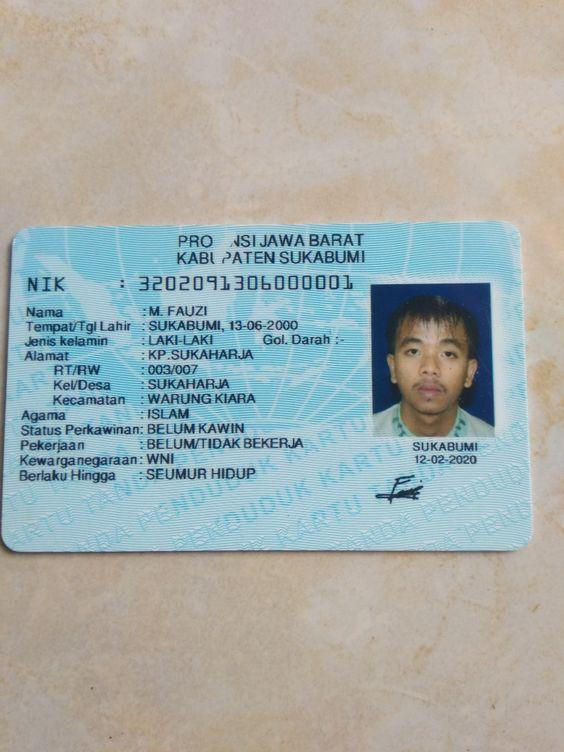ID-card: (11, 222, 533, 548)
